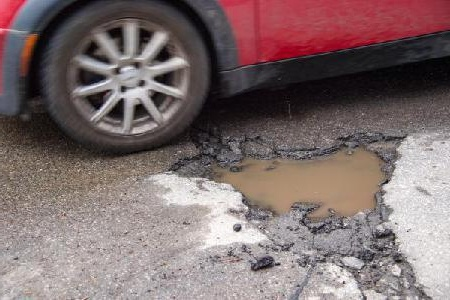pothole: (166, 128, 409, 223)
